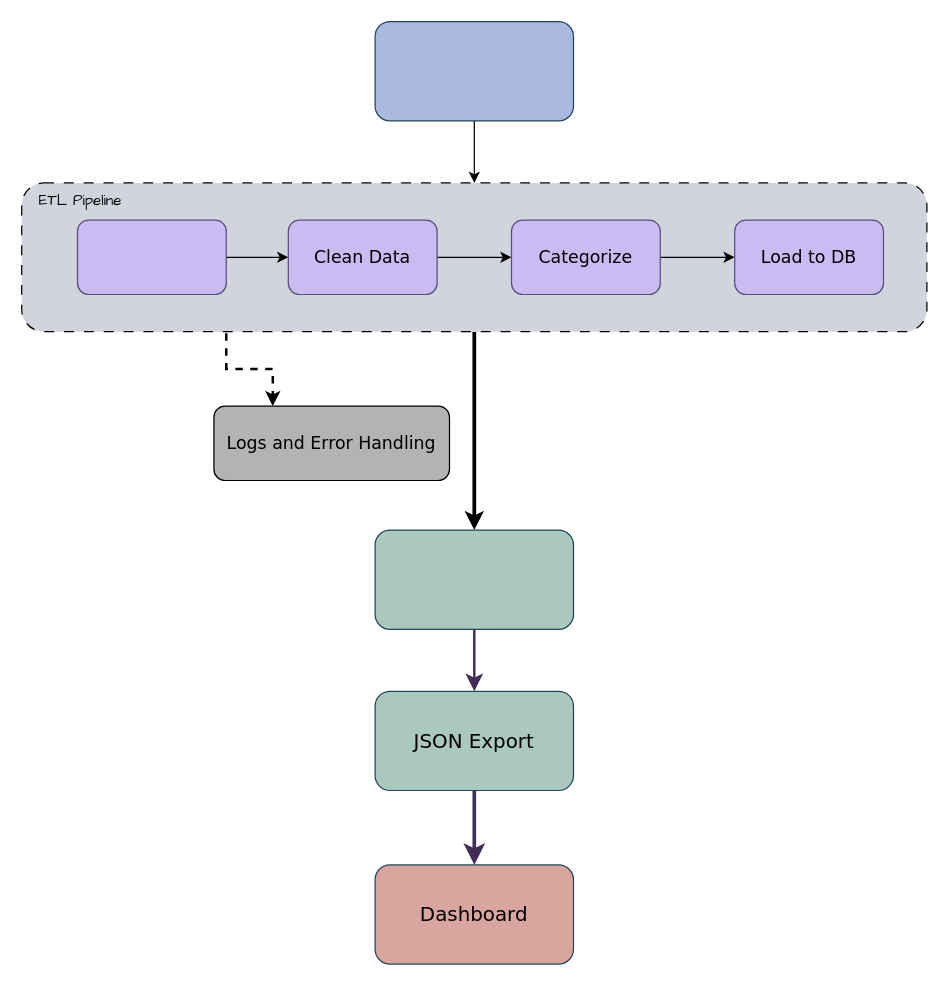
Some shapes in this 949 by 986 pixel diagram are drawn without their labels. Here are the shapes that lost their labels. From the top down, the centre of each, then its label:
At (x=474, y=70): "MoMo XML File".
At (x=151, y=256): "Parse XML".
At (x=474, y=579): "SQLite Database".
